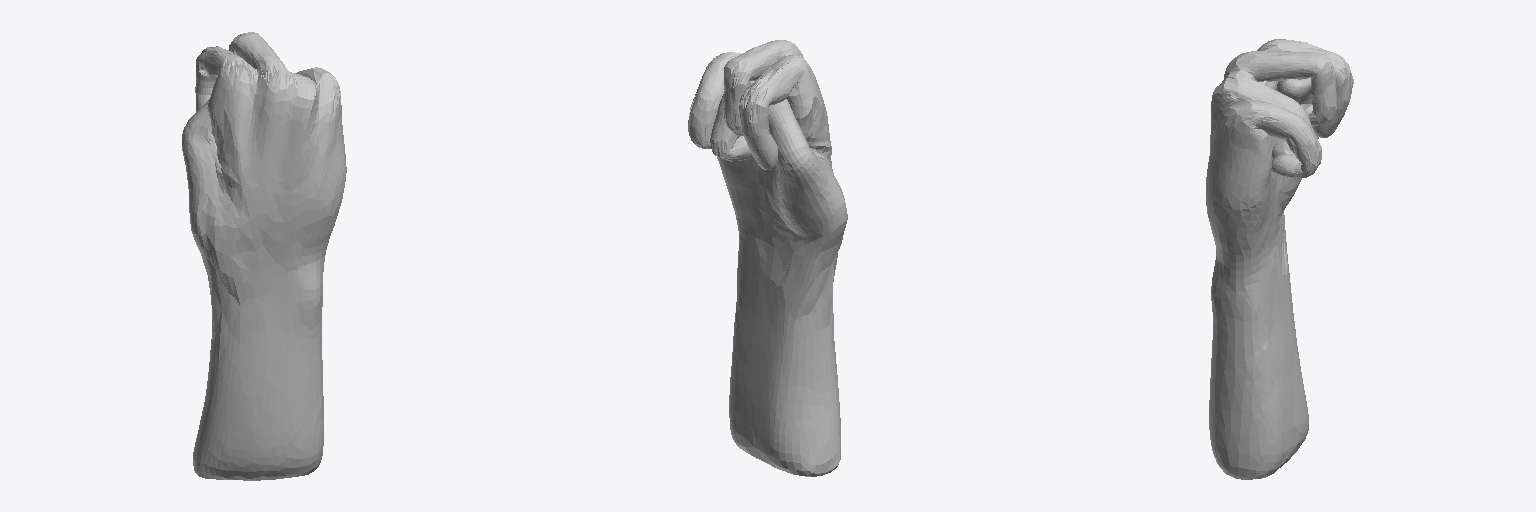
File: maint.obj
3 views of the same model, side by side, from view 1: azimuth 30°, elevation 25°; view 2: azimuth 150°, elevation 25°; view 3: azimuth 270°, elevation 25° (orthographic).
Parts seen in each view (by area): view 1: ZBrush_defualt_group; view 2: ZBrush_defualt_group; view 3: ZBrush_defualt_group.
Boxes of the visible parts, x1,y1,x2,y2 form: ZBrush_defualt_group: [182, 32, 346, 480]; ZBrush_defualt_group: [688, 40, 847, 476]; ZBrush_defualt_group: [1206, 39, 1353, 479].
Size of the model in its own units: 2.6 by 7.41 by 2.4.